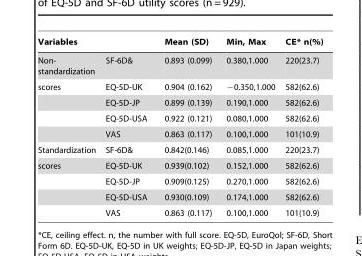table: (37, 37, 322, 217)
table column: (155, 37, 218, 217), (37, 37, 99, 217), (218, 37, 279, 217), (99, 37, 155, 217), (279, 37, 322, 217)
table column header: (37, 37, 322, 78)
table row: (37, 50, 322, 78), (37, 78, 322, 94), (37, 94, 322, 110), (37, 110, 322, 126), (37, 141, 322, 157), (37, 157, 322, 173), (37, 173, 322, 189), (37, 126, 322, 141), (37, 189, 322, 204), (37, 37, 322, 50), (37, 204, 322, 217)
table spanning cell: (37, 78, 99, 141), (37, 157, 99, 217), (155, 37, 218, 78), (218, 37, 279, 78), (279, 37, 322, 78), (37, 37, 155, 50)
